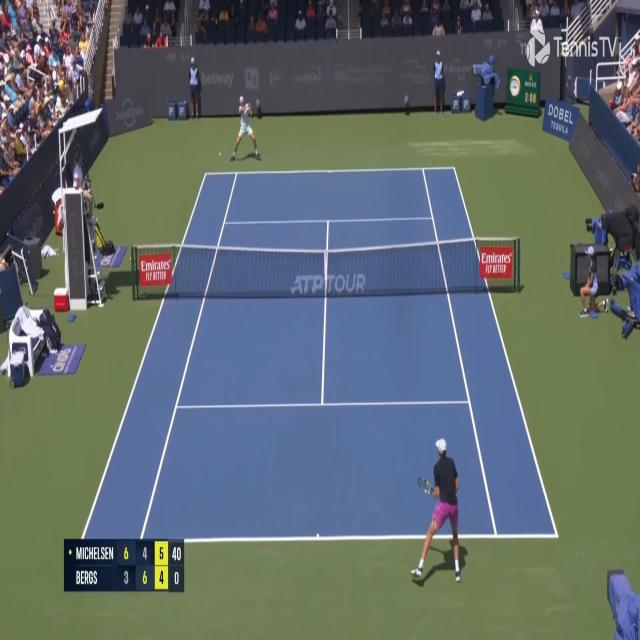tennis-player: (408, 436, 471, 592), (231, 96, 263, 164)
